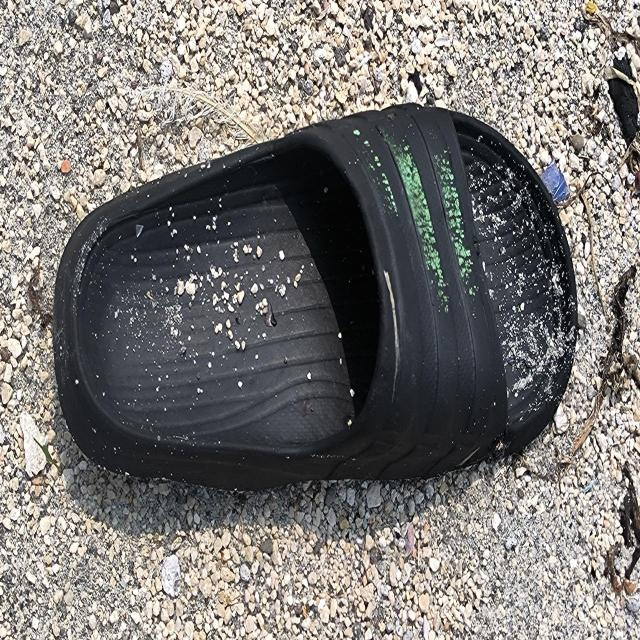rubber_waste: (53, 99, 582, 495)
